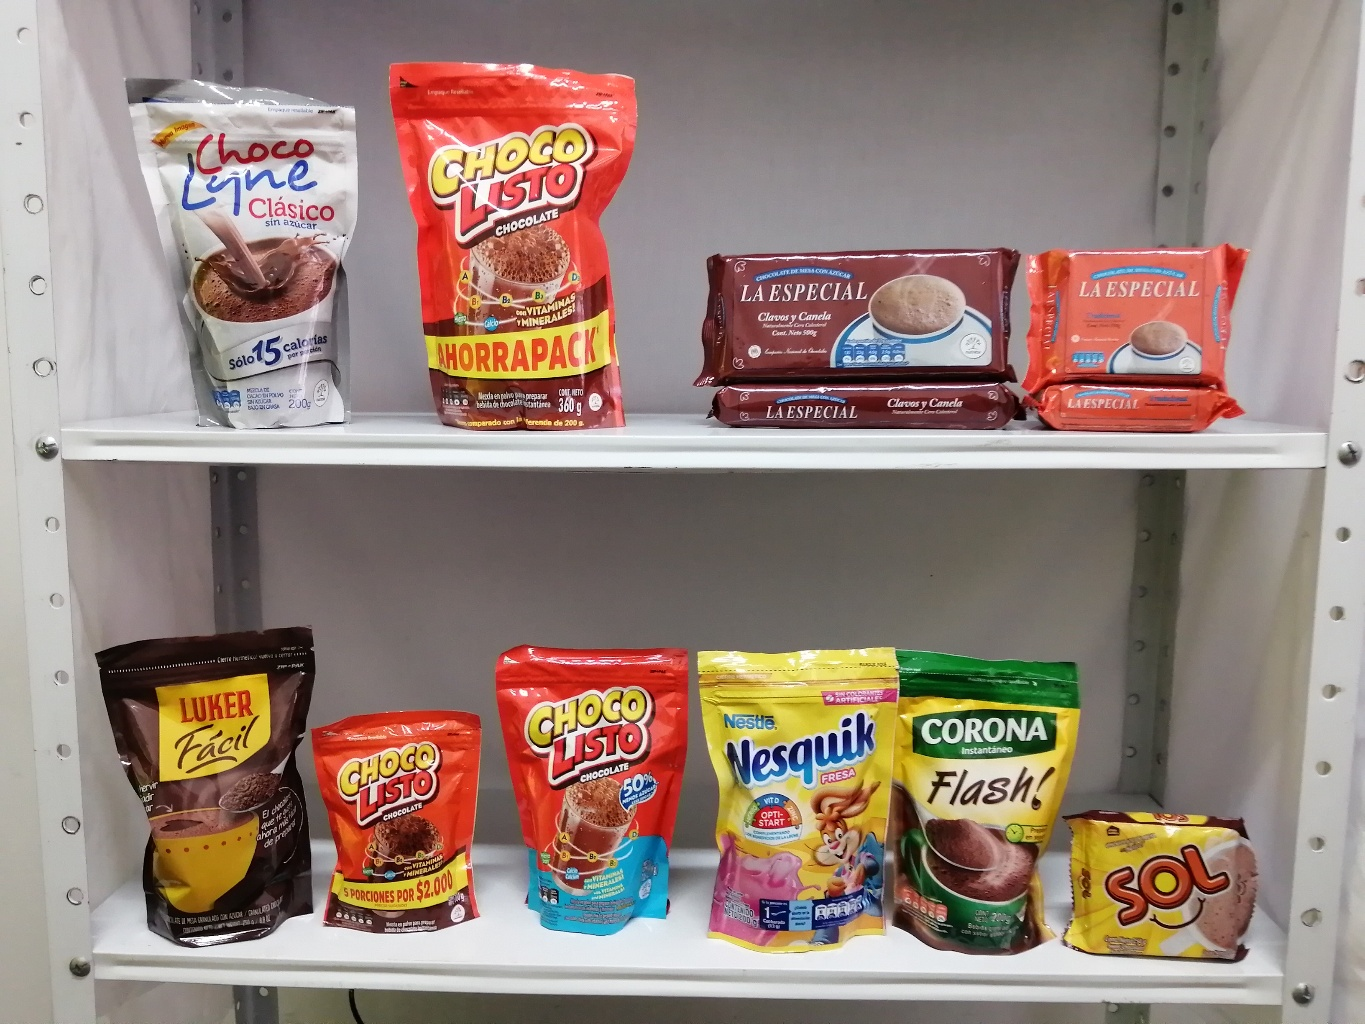COL0170103DYP36000: (372, 46, 668, 437)
COL0170104DYP20000: (486, 626, 701, 957)
COL0170305DYP20000: (686, 637, 919, 957)
